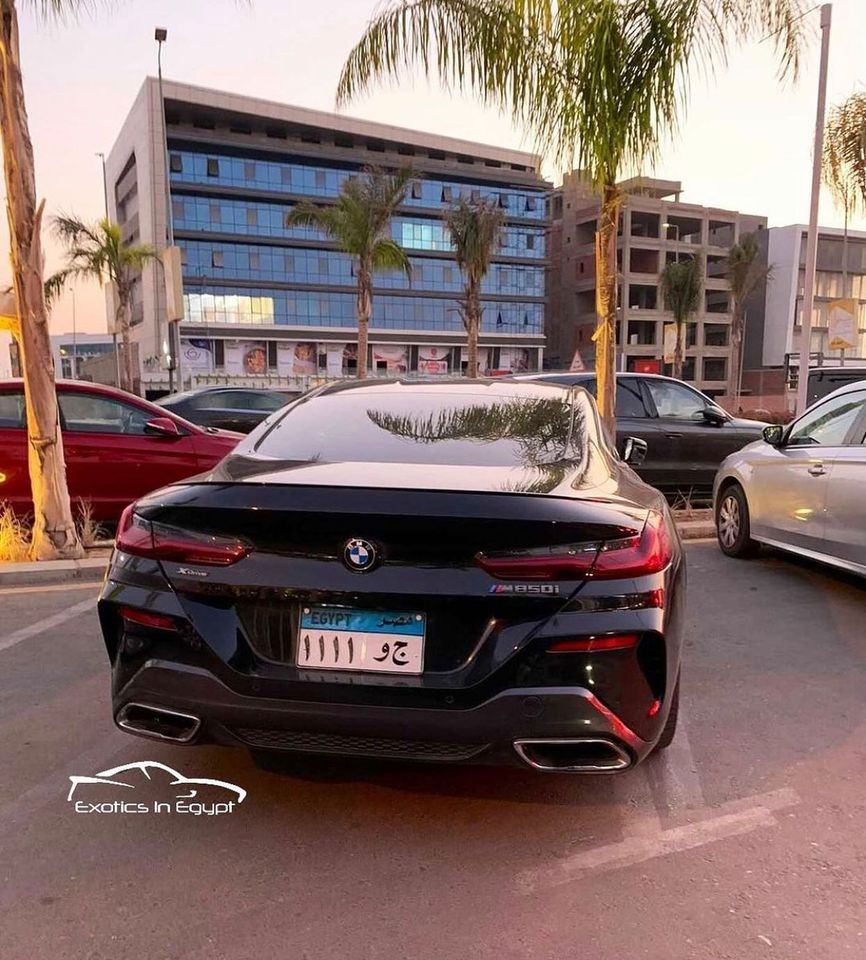carpl: (296, 612, 426, 672)
